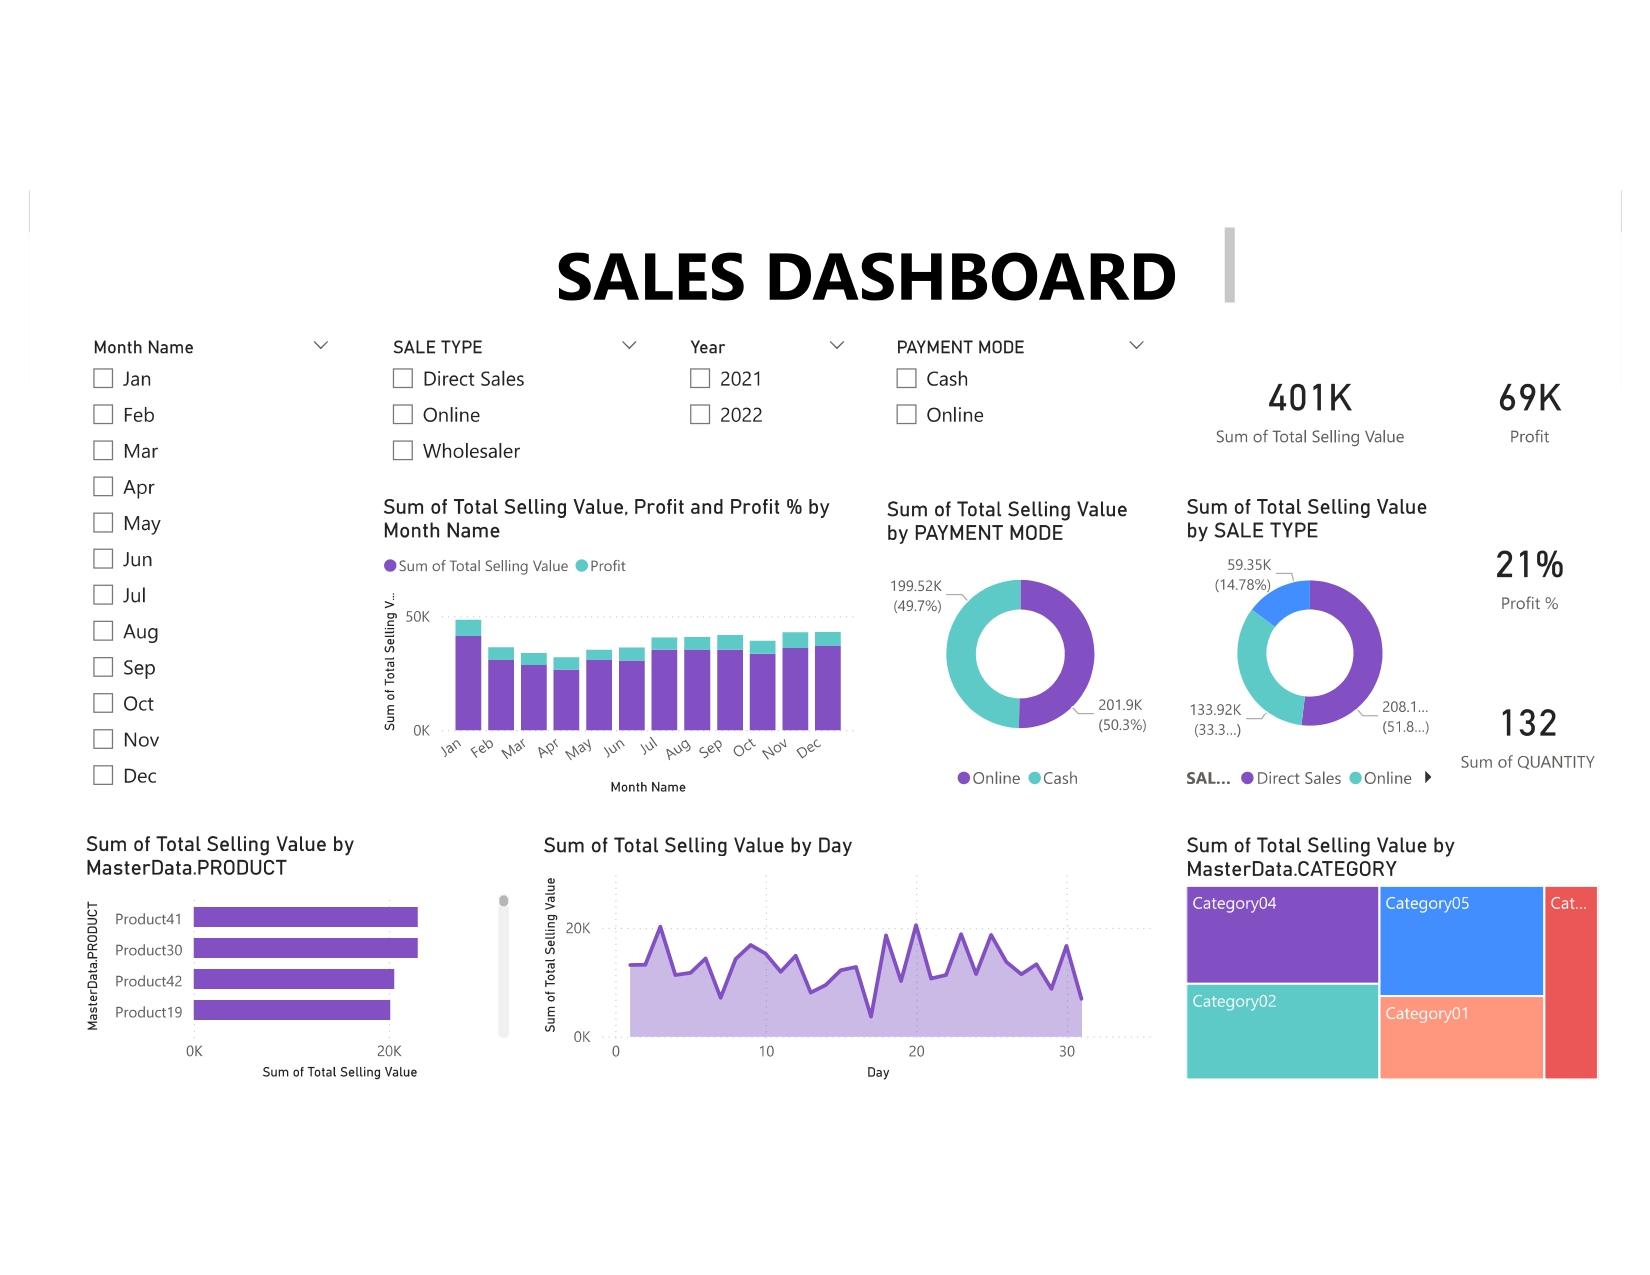

The dashboard page shown, as its layout file describes it:
{"tool":"powerbi","page":{"name":"Page 1","canvas":[1280,720],"ordinal":0},"visuals":[{"type":"slicer","fields":{"Values":["InputData.Month Name"]},"box":[37.5,112.5,215,378.8],"z":1},{"type":"slicer","fields":{"Values":["InputData.SALE TYPE"]},"box":[278.8,112.5,222.5,120],"z":2},{"type":"slicer","fields":{"Values":["InputData.Year"]},"box":[517.5,112.5,150,120],"z":3},{"type":"slicer","fields":{"Values":["InputData.PAYMENT MODE"]},"box":[683.8,112.5,225,120],"z":4},{"type":"card","fields":{"Values":["Sum(InputData.Total Selling Value)"]},"box":[925,112.5,208.8,120],"z":5},{"type":"card","fields":{"Values":["Sum(InputData.QUANTITY)"]},"box":[1142.5,377.5,123.8,113.8],"z":9},{"type":"card","fields":{"Values":["InputData.Profit %"]},"box":[1143.8,246.2,123.8,121.2],"z":10},{"type":"card","fields":{"Values":["InputData.Profit"]},"box":[1143.8,112.5,123.8,120],"z":11},{"type":"columnChart","fields":{"Category":["InputData.Month Name"],"Y":["Sum(InputData.Total Selling Value)","InputData.Profit"]},"box":[278.8,243.8,388.8,247.5],"z":12},{"type":"clusteredBarChart","fields":{"Y":["Sum(InputData.Total Selling Value)"],"Category":["InputData.MasterData.PRODUCT"]},"box":[40,515,350,205],"z":13},{"type":"areaChart","fields":{"Y":["Sum(InputData.Total Selling Value)"],"Category":["InputData.Day"]},"box":[407.5,516.2,501.2,203.8],"z":14},{"type":"donutChart","fields":{"Y":["Sum(InputData.Total Selling Value)"],"Category":["InputData.SALE TYPE"]},"box":[925,243.8,208.8,247.5],"z":15},{"type":"donutChart","fields":{"Y":["Sum(InputData.Total Selling Value)"],"Category":["InputData.PAYMENT MODE"]},"box":[683.8,246.2,225,245],"z":16},{"type":"treemap","fields":{"Group":["InputData.MasterData.CATEGORY"],"Values":["Sum(InputData.Total Selling Value)"]},"box":[925,516.2,341.2,203.8],"z":17},{"type":"textbox","box":[377.5,25,596.2,75],"z":18}]}

Visuals, with their boxes on the page's 1280x720 design canvas (x1, y1, x2, y2). These are canvas units, not pixel positions in the 1650x1275 screenshot, which may show the page scaled, cropped or inside an application window:
slicer - InputData.Month Name: bbox=[38, 112, 252, 491]
slicer - InputData.SALE TYPE: bbox=[279, 112, 501, 232]
slicer - InputData.Year: bbox=[518, 112, 668, 232]
slicer - InputData.PAYMENT MODE: bbox=[684, 112, 909, 232]
card - Sum(InputData.Total Selling Value): bbox=[925, 112, 1134, 232]
card - Sum(InputData.QUANTITY): bbox=[1142, 378, 1266, 491]
card - InputData.Profit %: bbox=[1144, 246, 1268, 367]
card - InputData.Profit: bbox=[1144, 112, 1268, 232]
columnChart - InputData.Month Name x Sum(InputData.Total Selling Value): bbox=[279, 244, 668, 491]
clusteredBarChart - Sum(InputData.Total Selling Value) x InputData.MasterData.PRODUCT: bbox=[40, 515, 390, 720]
areaChart - Sum(InputData.Total Selling Value) x InputData.Day: bbox=[408, 516, 909, 720]
donutChart - Sum(InputData.Total Selling Value) x InputData.SALE TYPE: bbox=[925, 244, 1134, 491]
donutChart - Sum(InputData.Total Selling Value) x InputData.PAYMENT MODE: bbox=[684, 246, 909, 491]
treemap - InputData.MasterData.CATEGORY x Sum(InputData.Total Selling Value): bbox=[925, 516, 1266, 720]
textbox: bbox=[378, 25, 974, 100]
